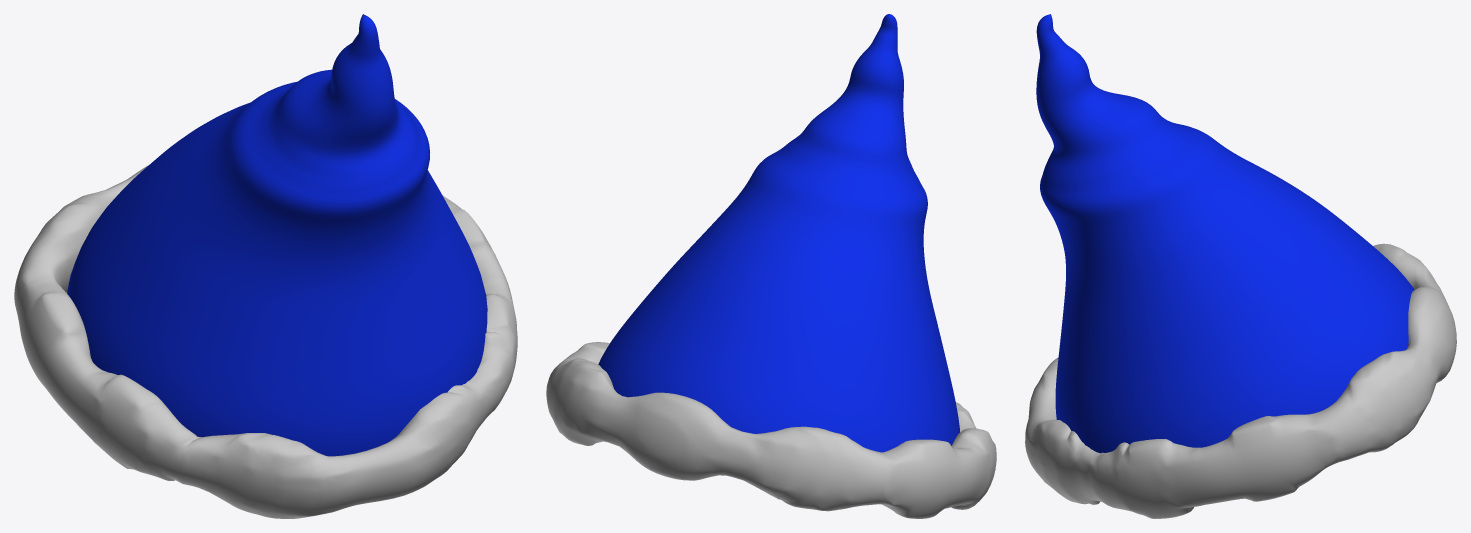
File: WizardGhost_Hat.fbx
The picture shows the model from 3 angles, left to right: view 1: azimuth 30°, elevation 25°; view 2: azimuth 150°, elevation 25°; view 3: azimuth 270°, elevation 25°; orthographic projection. The views are drawn at different scales.
Parts seen in each view (by area): view 1: WizardHat; view 2: WizardHat; view 3: WizardHat.
Boxes of the visible parts, x1=… form: WizardHat: x1=14, y1=14, x2=517, y2=518; WizardHat: x1=546, y1=14, x2=996, y2=518; WizardHat: x1=1025, y1=14, x2=1456, y2=518.
Size of the model in its own units: 173 by 187 by 161.
